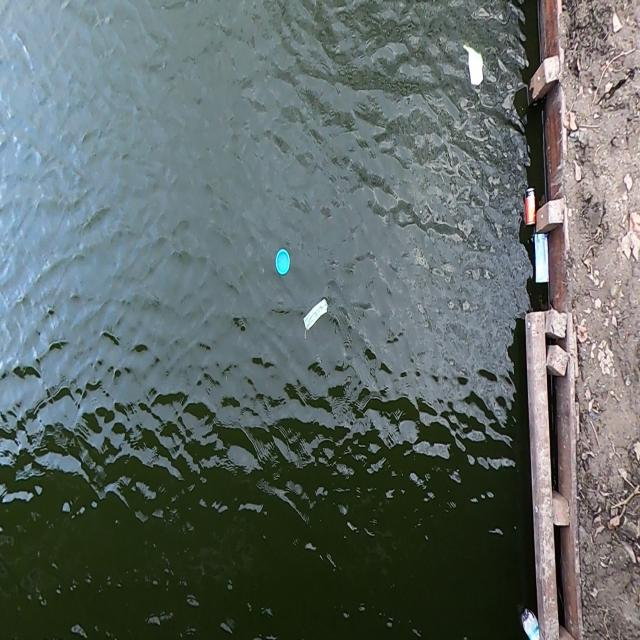Autre plastique: (464, 43, 486, 93)
Non plastique: (300, 296, 334, 343), (522, 186, 538, 229)
